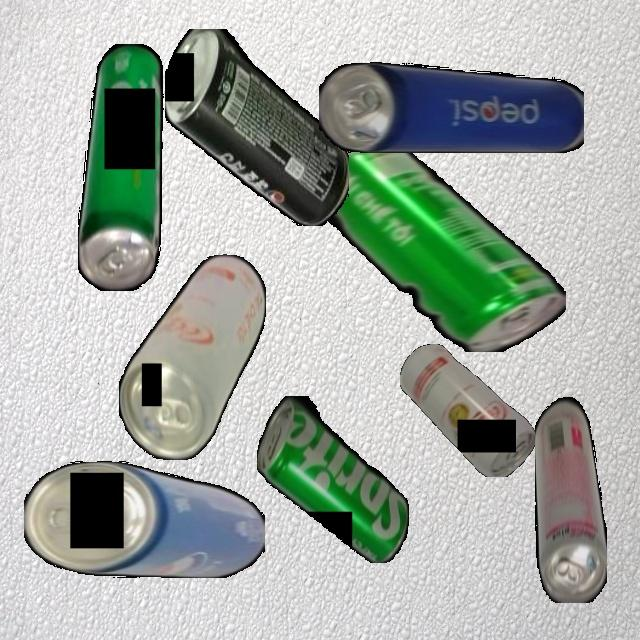debris: (311, 142, 566, 352), (164, 28, 349, 226), (118, 253, 266, 460), (24, 460, 265, 578), (256, 395, 409, 563), (319, 61, 584, 153), (77, 43, 165, 291), (400, 343, 536, 477), (534, 392, 607, 603)
